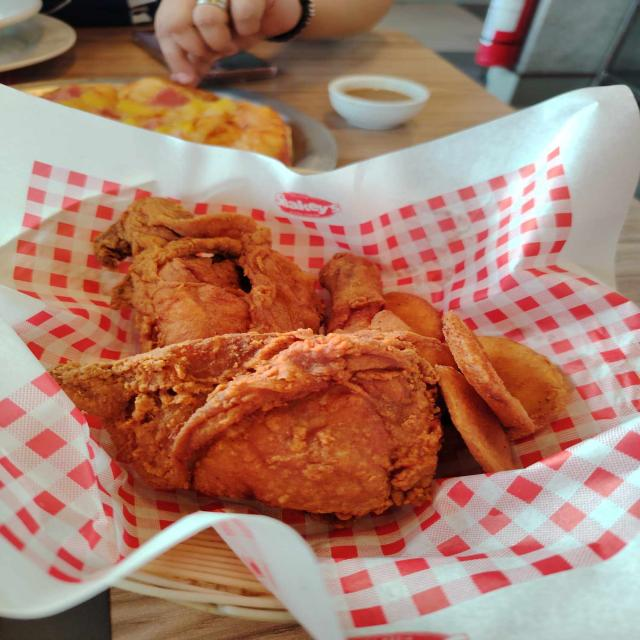Chicken -Fried Chicken-: (37, 333, 470, 544), (86, 187, 372, 363)
